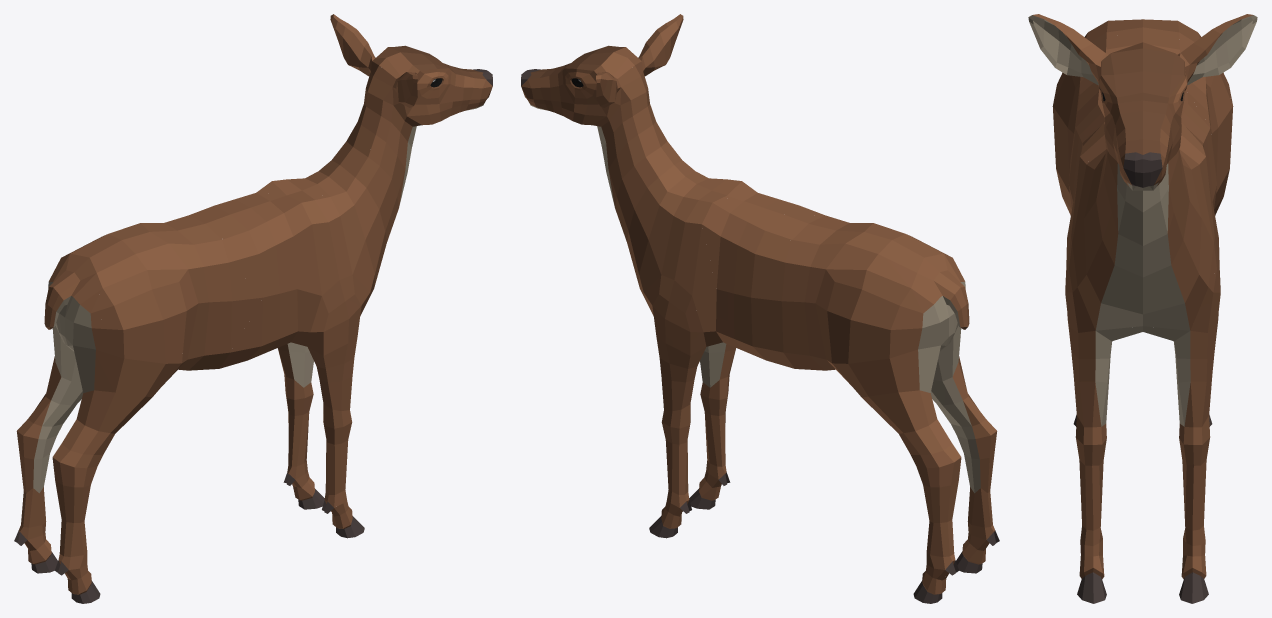
Rendered from grazer-deer.glb.
3 renders of one model, left to right at view 1: azimuth 30°, elevation 25°; view 2: azimuth 150°, elevation 25°; view 3: azimuth 270°, elevation 25°, orthographic. The views are drawn at different scales.
Parts seen in each view (by area): view 1: Torso_Main, Torso2_Main, BackLeg.R_Main, Torso3_Main, BackUpperLeg.R_Main, FrontUpperLeg.R_Main, Neck2_Main, Back_Main, Neck1_Main, Head_Main, BackLowerLeg.R_Main, Neck3_Main (+14 smaller); view 2: Torso_Main, Torso2_Main, BackLeg.L_Main, Torso3_Main, BackUpperLeg.L_Main, FrontUpperLeg.L_Main, Neck2_Main, Back_Main, Neck1_Main, Head_Main, BackLowerLeg.L_Main, Neck3_Main (+14 smaller); view 3: Torso3_Main, Head_Main_Dark, Neck1_Main, Torso_Main, FrontUpperLeg.R_Main, FrontUpperLeg.L_Main, Neck2_Main_Light, Torso3_Main_Light, Neck2_Main, Torso2_Main, Head_Main, Neck1_Main_Light (+25 smaller).
Part boxes in pixels (x1,y1,x2,y2): Torso_Main: [108, 214, 262, 384]; Torso2_Main: [189, 192, 321, 360]; BackLeg.R_Main: [91, 289, 186, 396]; Torso3_Main: [256, 178, 386, 315]; BackUpperLeg.R_Main: [52, 350, 165, 486]; FrontUpperLeg.R_Main: [307, 280, 369, 443]; Neck2_Main: [319, 122, 407, 230]; Back_Main: [53, 232, 150, 329]; Neck1_Main: [302, 165, 398, 273]; Head_Main: [372, 47, 492, 125]; BackLowerLeg.R_Main: [55, 463, 90, 579]; Neck3_Main: [353, 61, 421, 156]; Torso_Main: [751, 214, 905, 385]; Torso2_Main: [692, 192, 824, 360]; BackLeg.L_Main: [827, 289, 922, 396]; Torso3_Main: [627, 178, 757, 315]; BackUpperLeg.L_Main: [849, 350, 961, 486]; FrontUpperLeg.L_Main: [644, 280, 706, 443]; Neck2_Main: [606, 122, 694, 230]; Back_Main: [863, 232, 960, 329]; Neck1_Main: [615, 165, 711, 273]; Head_Main: [521, 47, 641, 125]; BackLowerLeg.L_Main: [923, 463, 958, 579]; Neck3_Main: [592, 61, 660, 156]; Torso3_Main: [1067, 122, 1218, 329]; Head_Main_Dark: [1099, 48, 1186, 154]; Neck1_Main: [1072, 136, 1213, 274]; Torso_Main: [1053, 32, 1232, 173]; FrontUpperLeg.R_Main: [1065, 239, 1106, 464]; FrontUpperLeg.L_Main: [1179, 239, 1220, 464]; Neck2_Main_Light: [1114, 180, 1171, 264]; Torso3_Main_Light: [1095, 277, 1190, 330]; Neck2_Main: [1094, 149, 1191, 239]; Torso2_Main: [1068, 91, 1216, 208]; Head_Main: [1100, 42, 1185, 185]; Neck1_Main_Light: [1101, 246, 1184, 302].
Size of the model in its own units: 0.4607 by 0.4478 by 0.1528.
